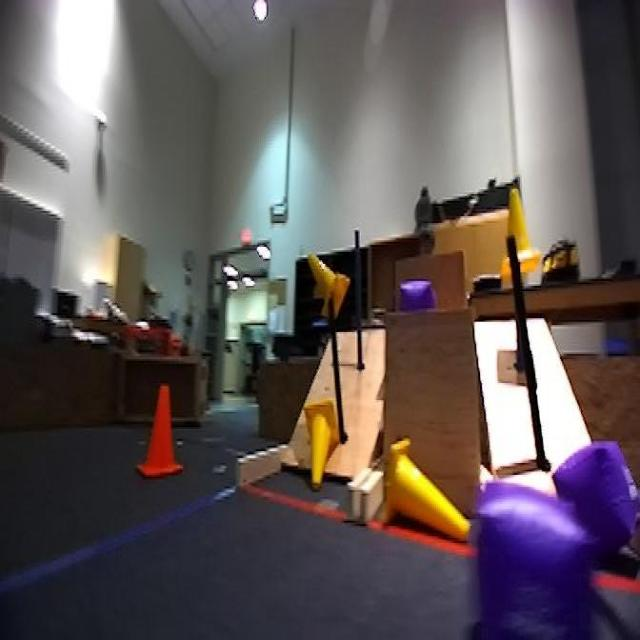frc_cone: (383, 442, 469, 544), (495, 169, 549, 284), (300, 398, 341, 497), (307, 247, 355, 328)
frc_cube: (479, 475, 590, 640), (558, 439, 636, 569), (397, 282, 437, 310)
